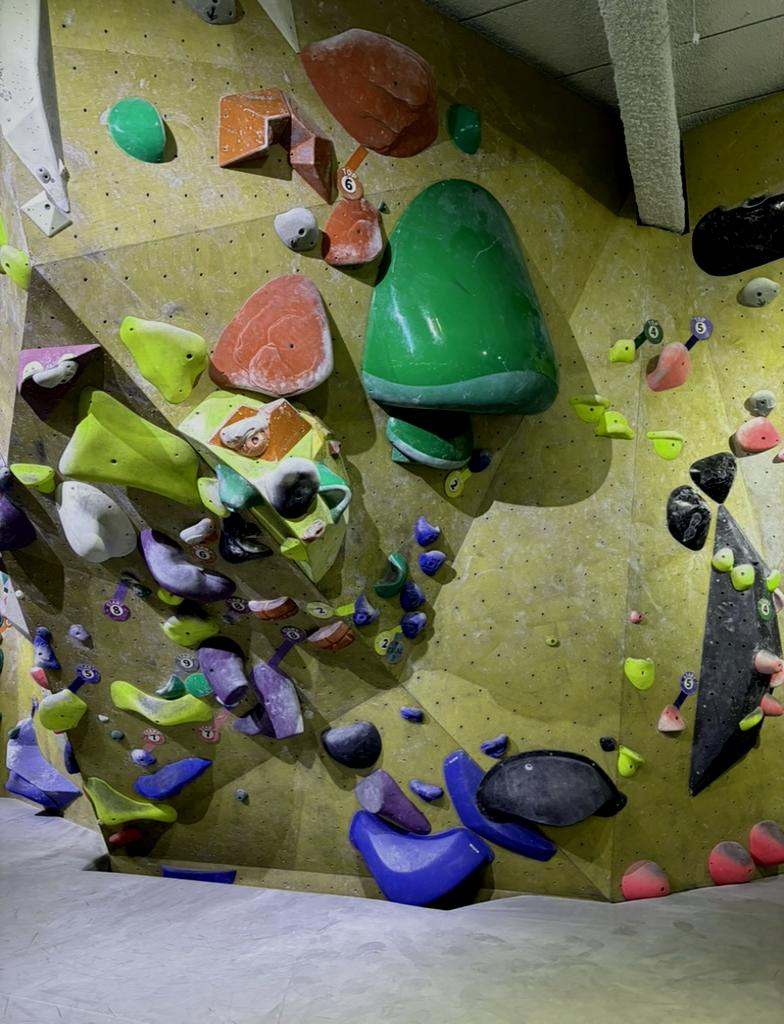crimp: (22, 191, 71, 236), (309, 620, 354, 650), (249, 597, 297, 619), (624, 657, 654, 690)
downhold: (275, 208, 320, 251), (185, 0, 236, 24), (738, 277, 779, 306), (749, 389, 776, 415)
jib: (629, 612, 643, 623), (545, 636, 558, 646)
jug: (300, 29, 437, 157), (60, 388, 198, 503), (120, 316, 205, 401), (139, 529, 235, 601), (252, 663, 303, 739), (198, 637, 247, 707), (263, 458, 318, 518), (321, 721, 380, 768), (647, 343, 688, 391), (161, 611, 217, 646), (41, 690, 87, 730), (737, 417, 780, 452), (570, 394, 608, 422), (646, 432, 683, 459), (180, 517, 215, 543), (399, 582, 424, 611), (415, 516, 439, 545), (420, 550, 446, 576), (401, 611, 426, 638), (609, 339, 635, 361), (468, 449, 490, 472), (131, 749, 155, 765)
sidepull: (0, 0, 68, 211), (108, 98, 164, 161), (375, 552, 407, 597)
sloper: (55, 482, 135, 561)
tape: (268, 627, 306, 668), (338, 146, 366, 198), (198, 709, 229, 743), (104, 580, 129, 620), (68, 663, 100, 692), (685, 316, 712, 349), (673, 672, 697, 708), (634, 319, 662, 348), (445, 467, 471, 497), (306, 602, 354, 618), (374, 627, 398, 655), (141, 728, 165, 753), (188, 544, 214, 563), (757, 597, 773, 620), (227, 599, 247, 610)
undercling: (363, 180, 557, 413), (210, 275, 332, 397), (477, 750, 626, 826), (386, 408, 472, 469), (323, 198, 382, 265), (659, 705, 684, 732)
volume: (180, 391, 351, 579), (689, 505, 781, 795), (217, 88, 335, 201), (18, 344, 104, 429)
